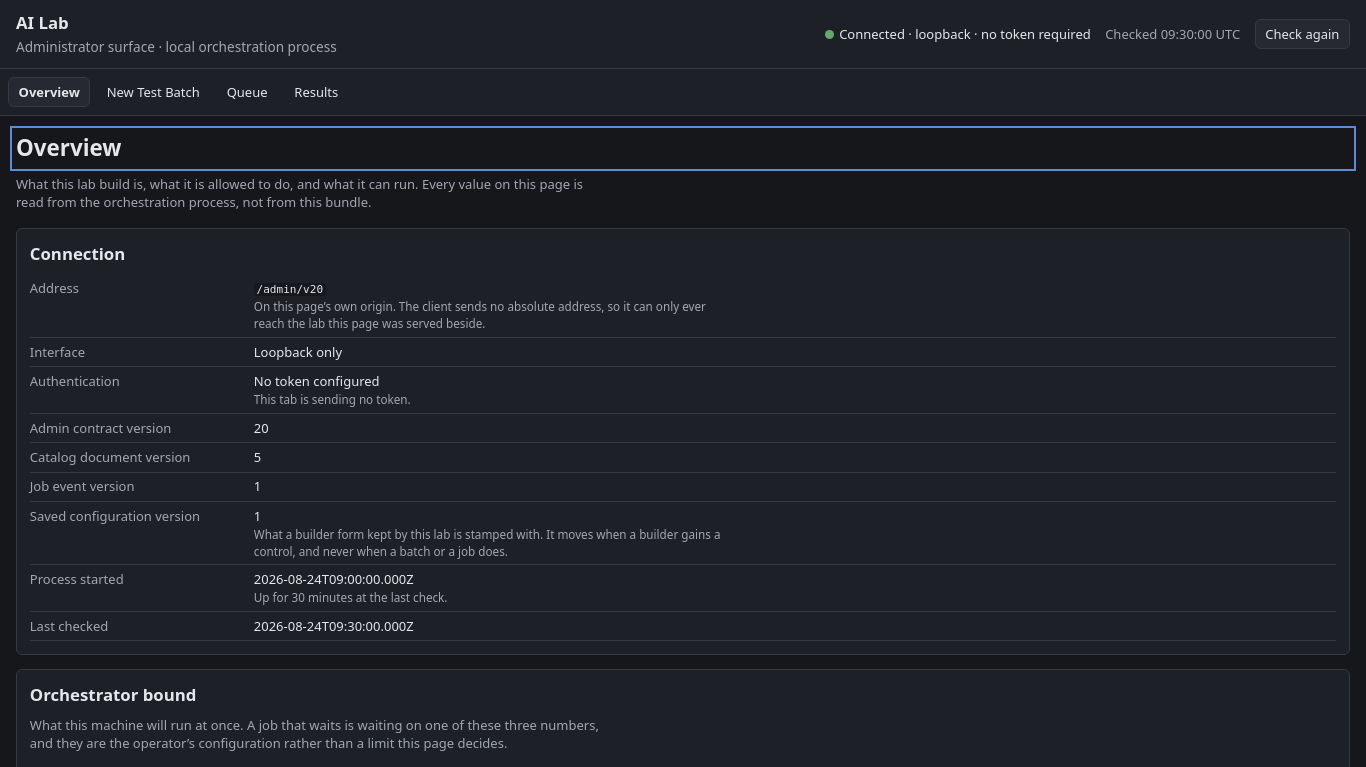
Test: when a reading fails or is stale › reports a restart of the orchestration process, and what it means
Expected: the heading "Overview" is shown, [16,132,122,164]
Click the button "Check again".
click(1302, 34)  # box [1255,19,1350,49]
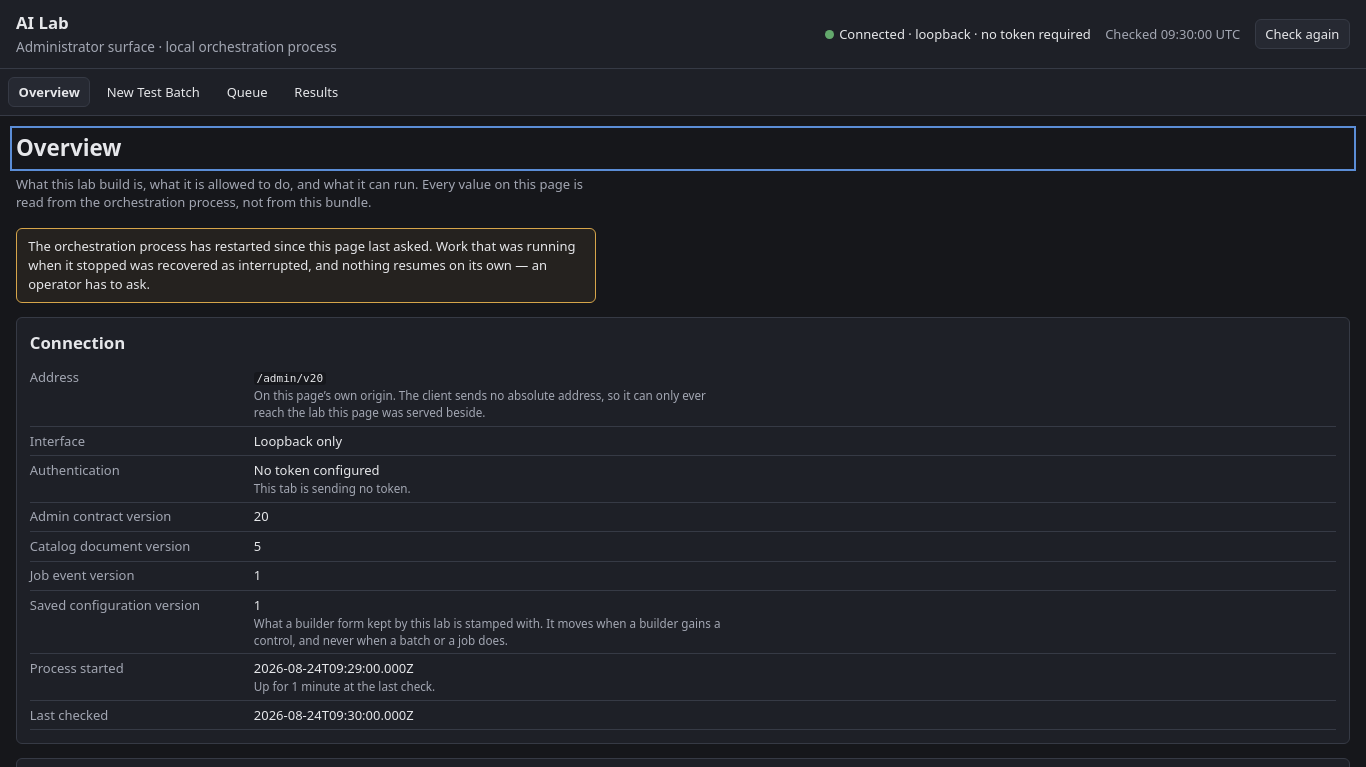
Now the text "has restarted since this page last asked" shows "recovered as interrupted", box [28,237,576,293]
Now the text "has restarted since this page last asked" shows "nothing resumes on its own", box [28,237,576,293]
